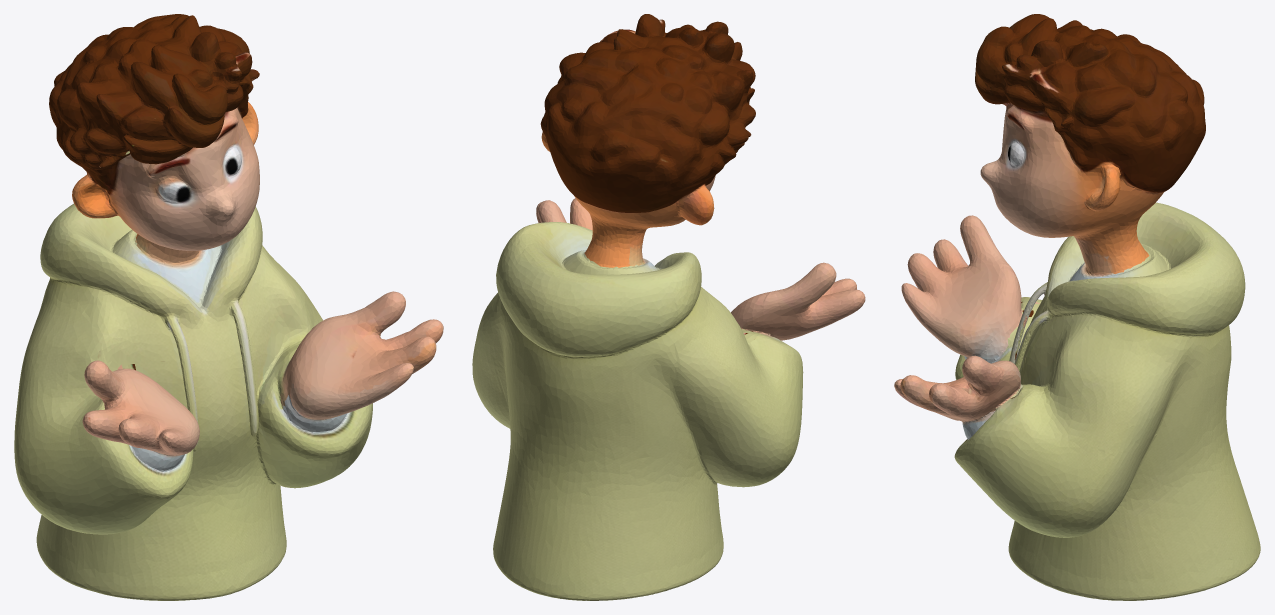
3 renders of one model, left to right at view 1: azimuth 30°, elevation 25°; view 2: azimuth 150°, elevation 25°; view 3: azimuth 270°, elevation 25°, orthographic. The views are drawn at different scales.
Visible parts, largest first — view 1: tmplmltyu7u.ply; view 2: tmplmltyu7u.ply; view 3: tmplmltyu7u.ply.
Boxes of the visible parts, x1,y1,x2,y2 form: tmplmltyu7u.ply: [14, 14, 443, 600]; tmplmltyu7u.ply: [472, 14, 865, 600]; tmplmltyu7u.ply: [894, 14, 1260, 600].
Bounding box in the file's own units: 1.36 × 2 × 1.29.
Materials: 1 (1 with a texture image).
